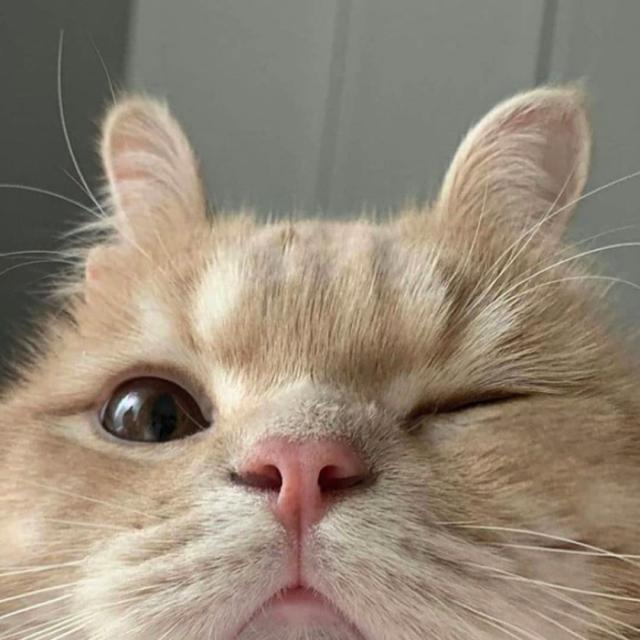da khoe manh: (137, 191, 452, 417)
